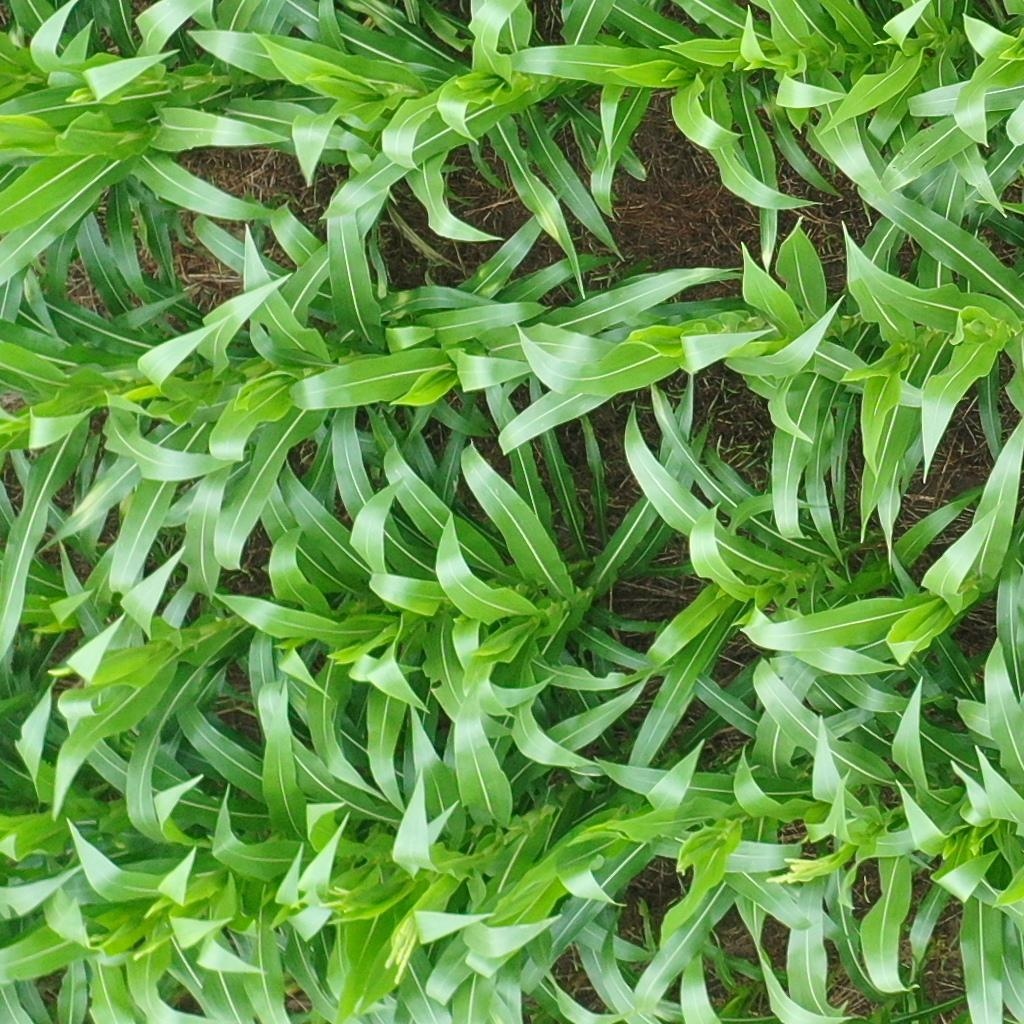Tassel: (386, 920, 425, 988), (765, 854, 840, 888), (317, 881, 359, 921)
